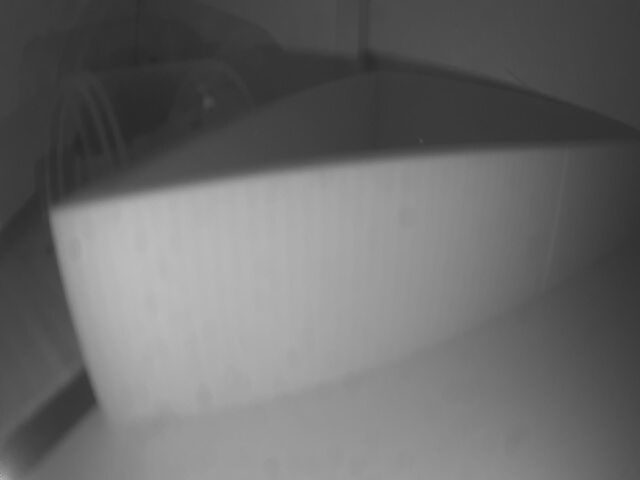Red: (79, 140, 638, 430)
